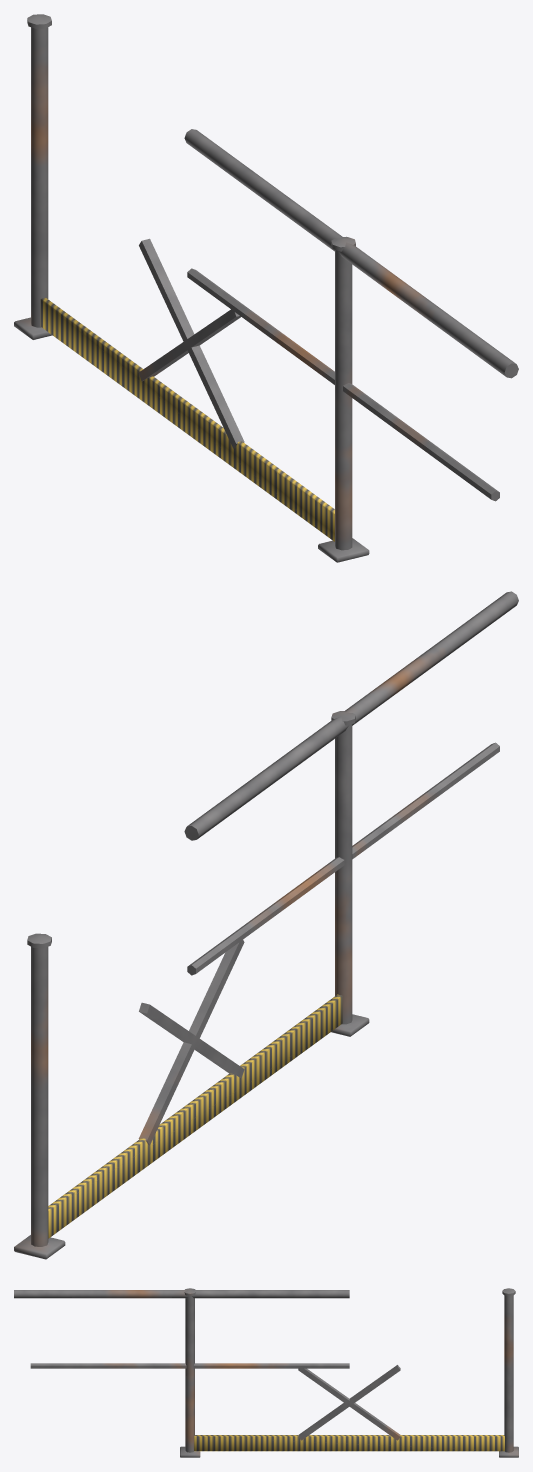
File: catwalk_rail.gltf
3 renders of one model, top to bottom at view 1: azimuth 30°, elevation 25°; view 2: azimuth 150°, elevation 25°; view 3: azimuth 270°, elevation 25°, orthographic. The views are drawn at different scales.
Parts seen in each view (by area): view 1: catwalk_rail; view 2: catwalk_rail; view 3: catwalk_rail.
Boxes of the visible parts, x1=… form: catwalk_rail: x1=14, y1=14, x2=518, y2=562; catwalk_rail: x1=14, y1=591, x2=518, y2=1259; catwalk_rail: x1=14, y1=1288, x2=518, y2=1457.
Bounding box in the file's own units: 0.12 × 1.08 × 3.01.
1 material, 1 textured.
